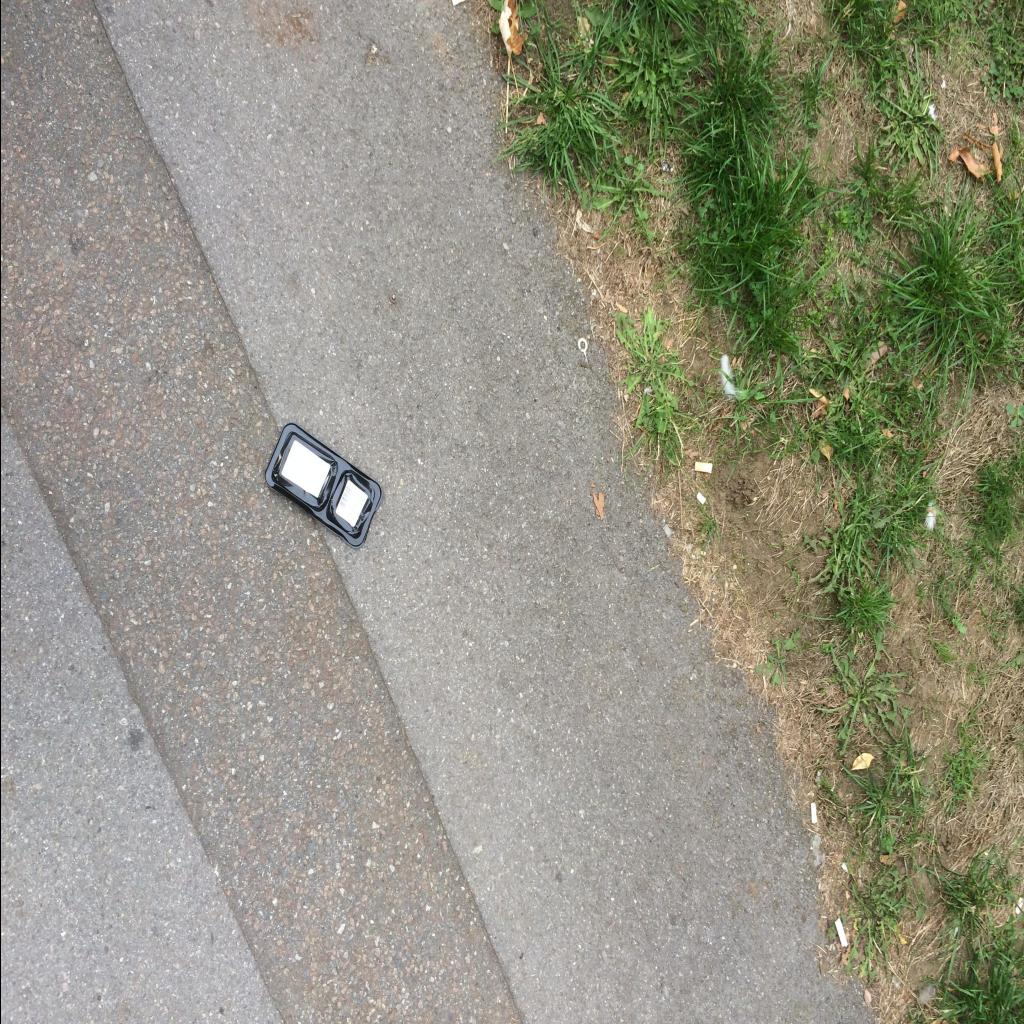Cigarette: (834, 919, 846, 947), (693, 462, 711, 472), (810, 802, 816, 822)
Disposable food container: (264, 422, 382, 548)
